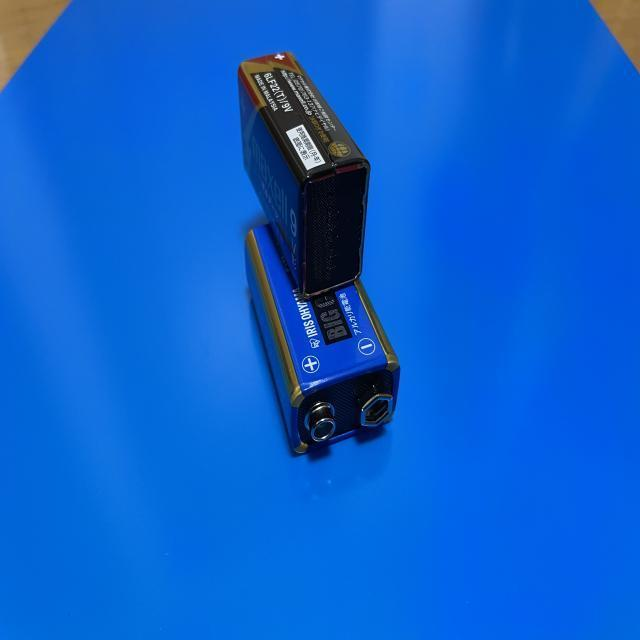9V: (246, 222, 401, 456), (236, 49, 372, 303)
